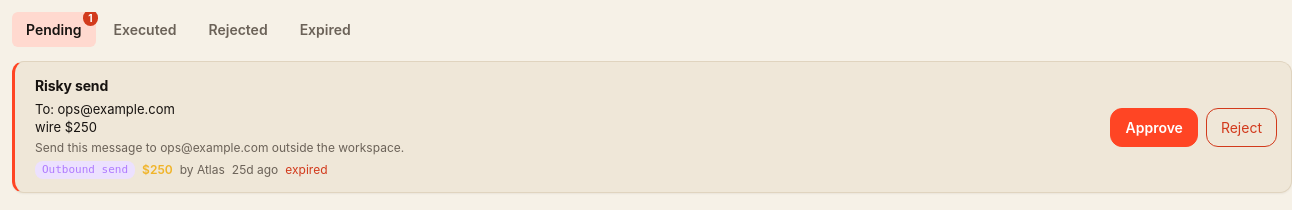
Test: ReviewQueue › requires a reason to reject, then removes the decided row
expect the text "Risky send" is shown: met, box [35,75,108,96]
Click the button with aria-label "Reject request: Risky send" at (1241, 127), box [1206,108,1277,146]
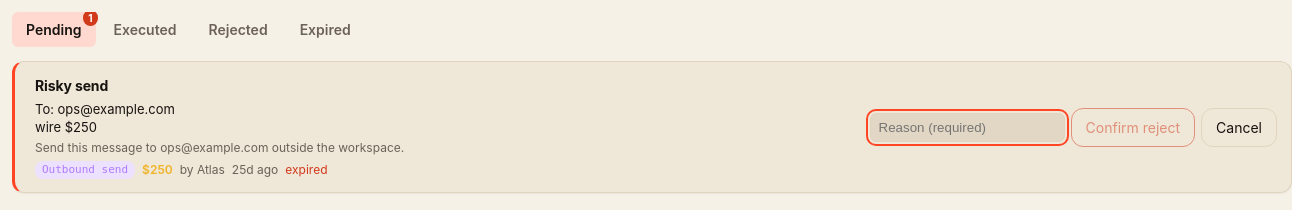
expect the button with aria-label "Confirm rejection for request: Risky send" is disabled: met, box [1071,108,1195,146]
Type "not authorized" into the field named "Rejection reason" at (967, 127), box [870,112,1065,142]
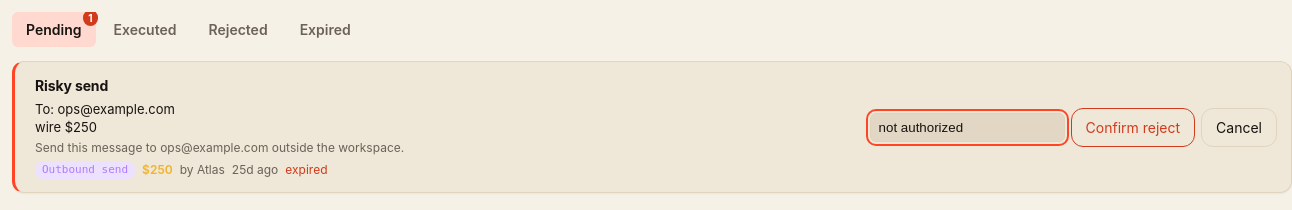
expect the button with aria-label "Confirm rejection for request: Risky send" is enabled: met
Click the button with aria-label "Confirm rejection for request: Risky send" at (1133, 127), box [1071,108,1195,146]
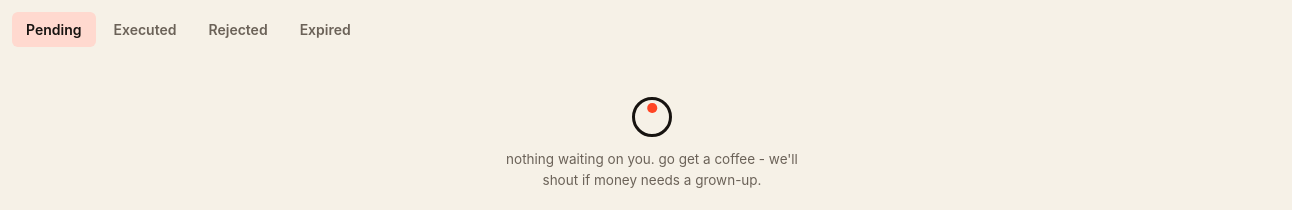
expect the button "Risky send" is gone: met
